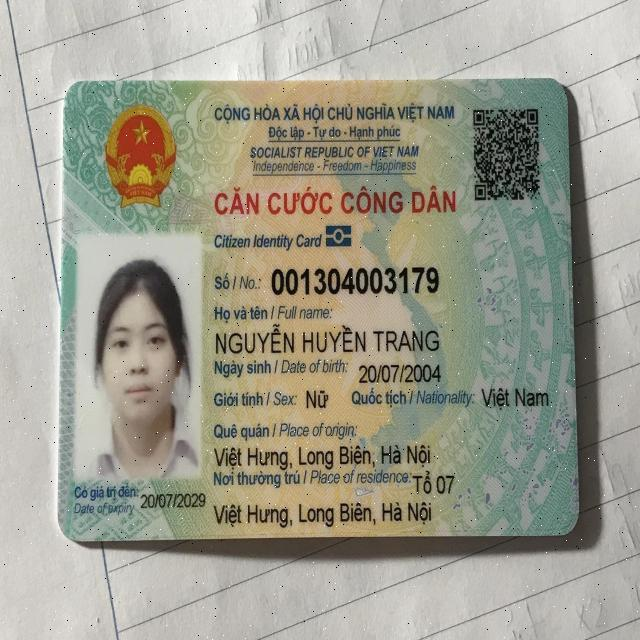current_place: (213, 498, 432, 526), (414, 470, 457, 495)
dob: (354, 360, 445, 387)
expire_date: (139, 490, 212, 510)
gender: (303, 383, 328, 416)
id: (266, 260, 439, 299)
name: (212, 322, 454, 356)
nationality: (479, 381, 549, 417)
origin_place: (214, 444, 433, 469)
qr: (468, 101, 546, 205)
